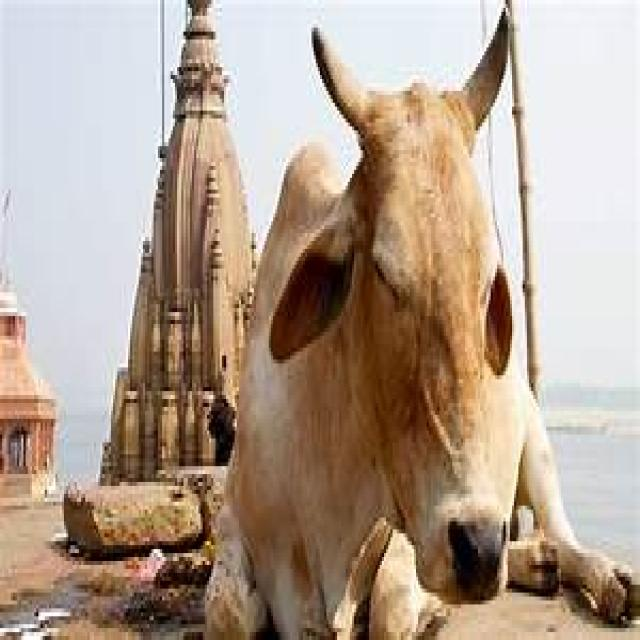cow: (205, 12, 625, 639)
